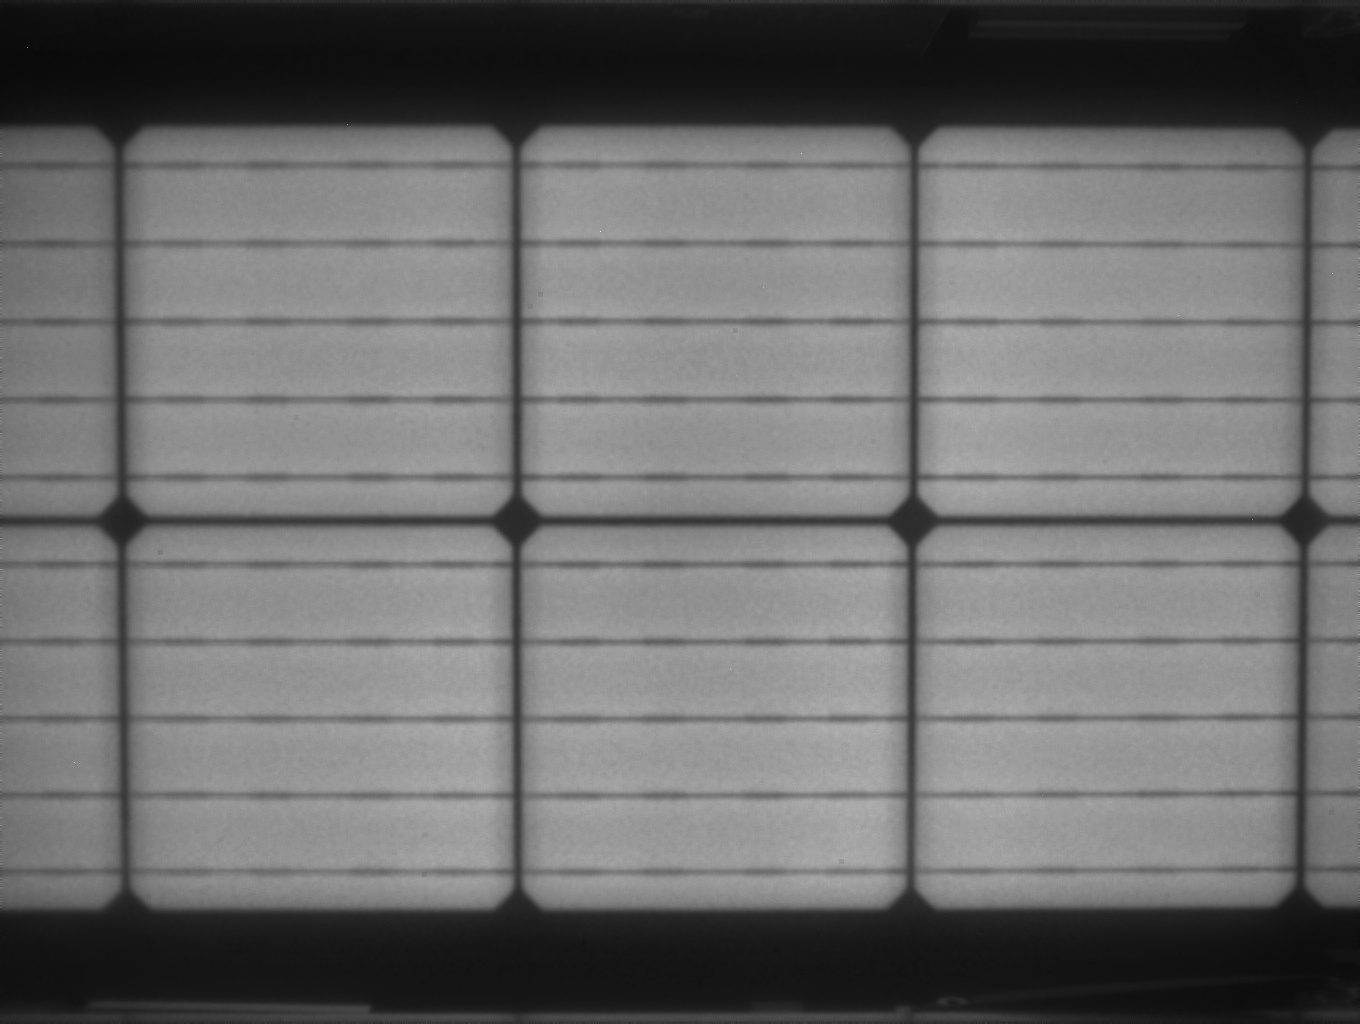loc: (120, 123, 263, 233), (129, 911, 239, 959), (1309, 127, 1350, 215), (1301, 909, 1344, 961)
